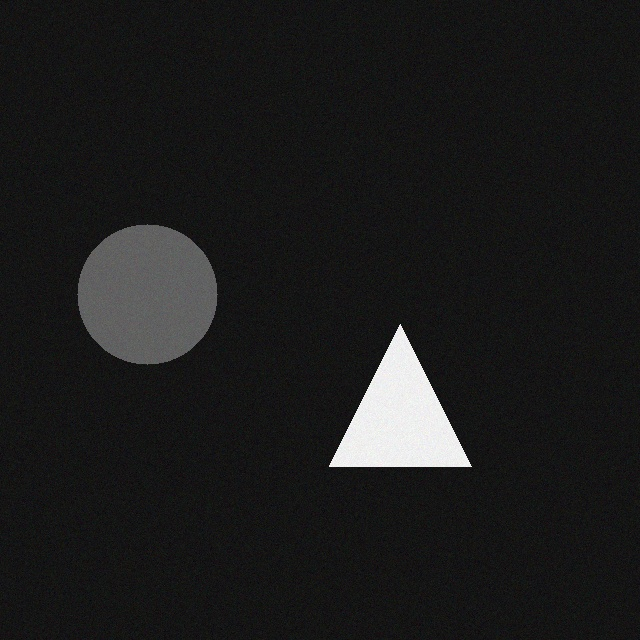circle: (77, 225, 217, 365)
triangle: (329, 325, 471, 467)
